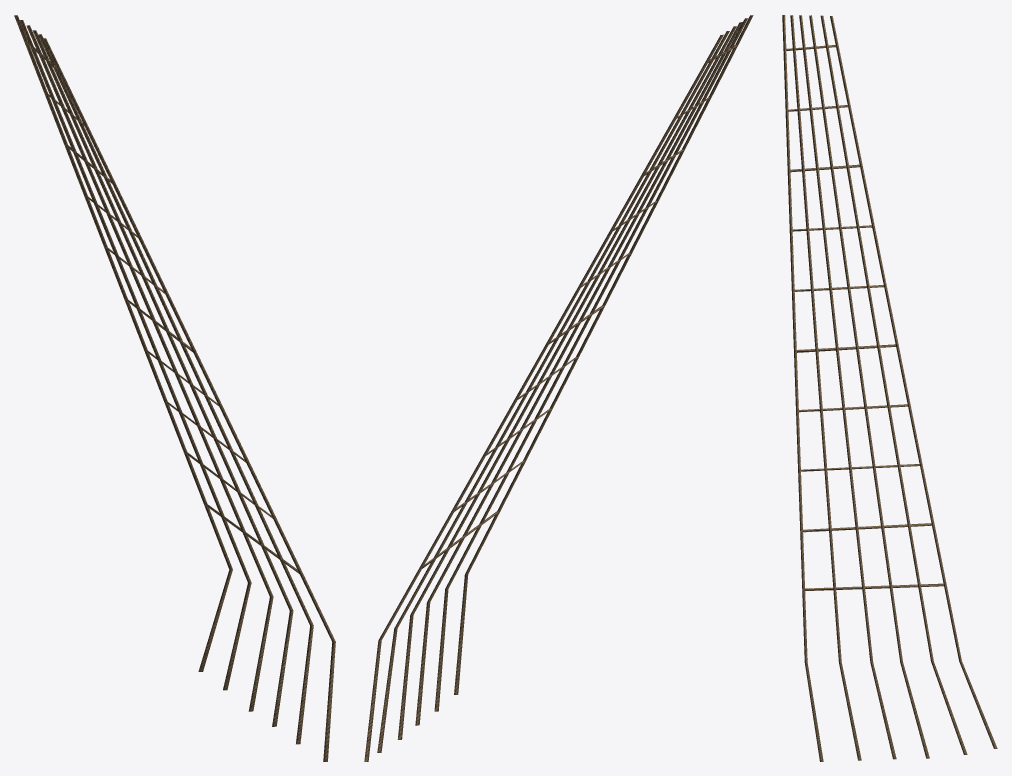
File: left_rope.glb
3 renders of one model, left to right at view 1: azimuth 30°, elevation 25°; view 2: azimuth 150°, elevation 25°; view 3: azimuth 270°, elevation 25°, orthographic. The views are drawn at different scales.
Parts seen in each view (by area): view 1: left_rope; view 2: left_rope; view 3: left_rope.
Boxes of the visible parts, <box> form: left_rope: <box>14,15,335,761</box>; left_rope: <box>364,15,753,761</box>; left_rope: <box>782,15,997,761</box>.
Size of the model in its own units: 27.56 by 69.52 by 21.51.
Materials: 1 (1 with a texture image).
